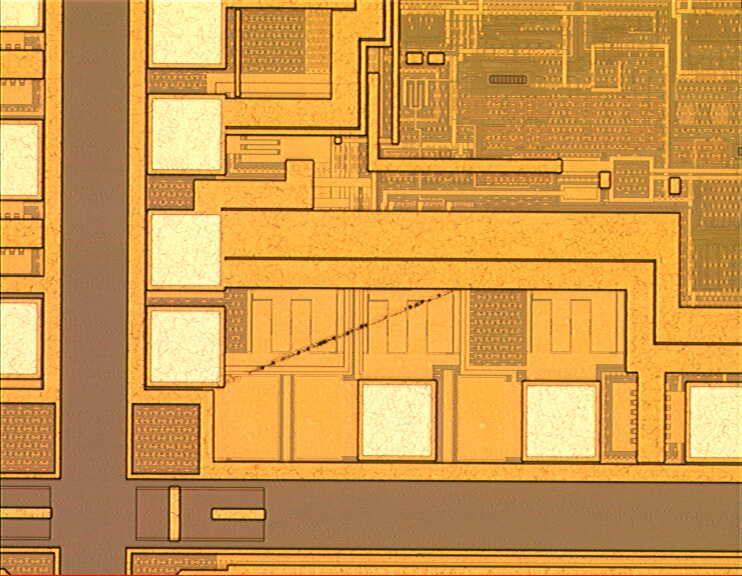SCRATCH: (184, 272, 473, 406)
